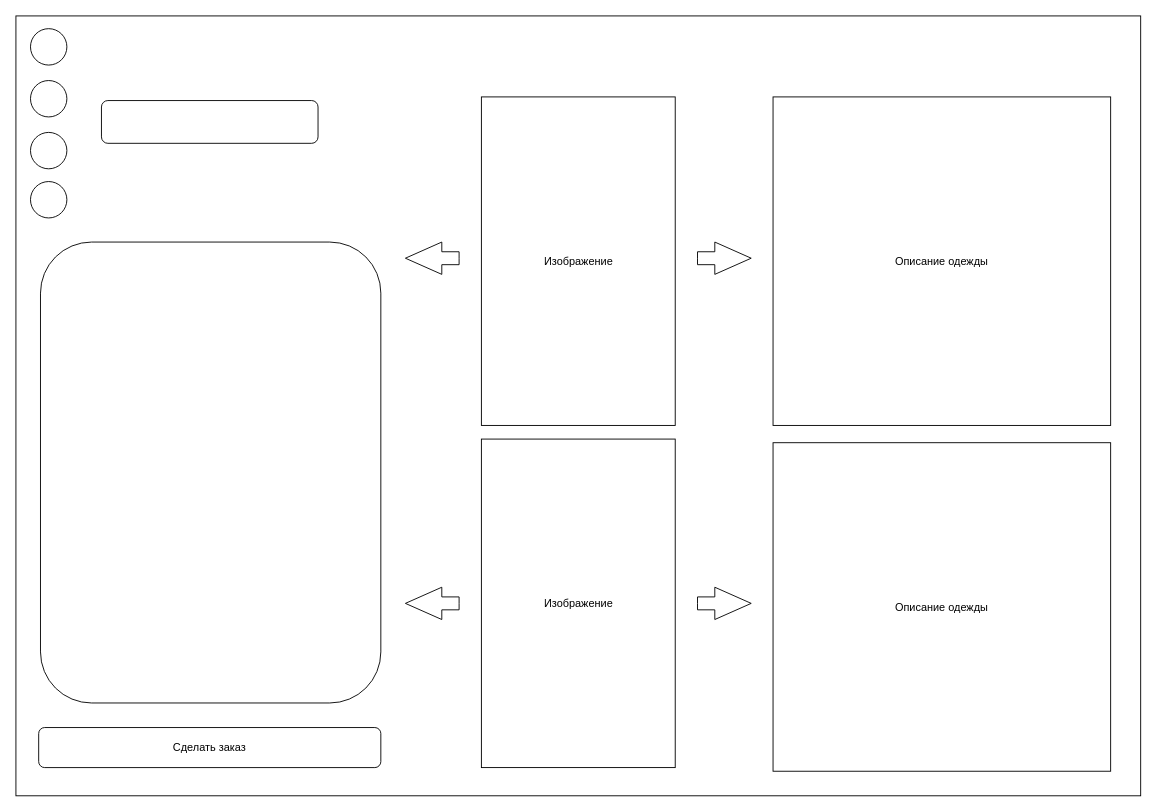
The diagram is 1157 pixels wide and 812 high, and some of its shapes have lost their labels. Each missing label, with the centre of its shape:
"Профиль пользователя" goes at [210,472].
"Фильнтр" goes at [209,121].
